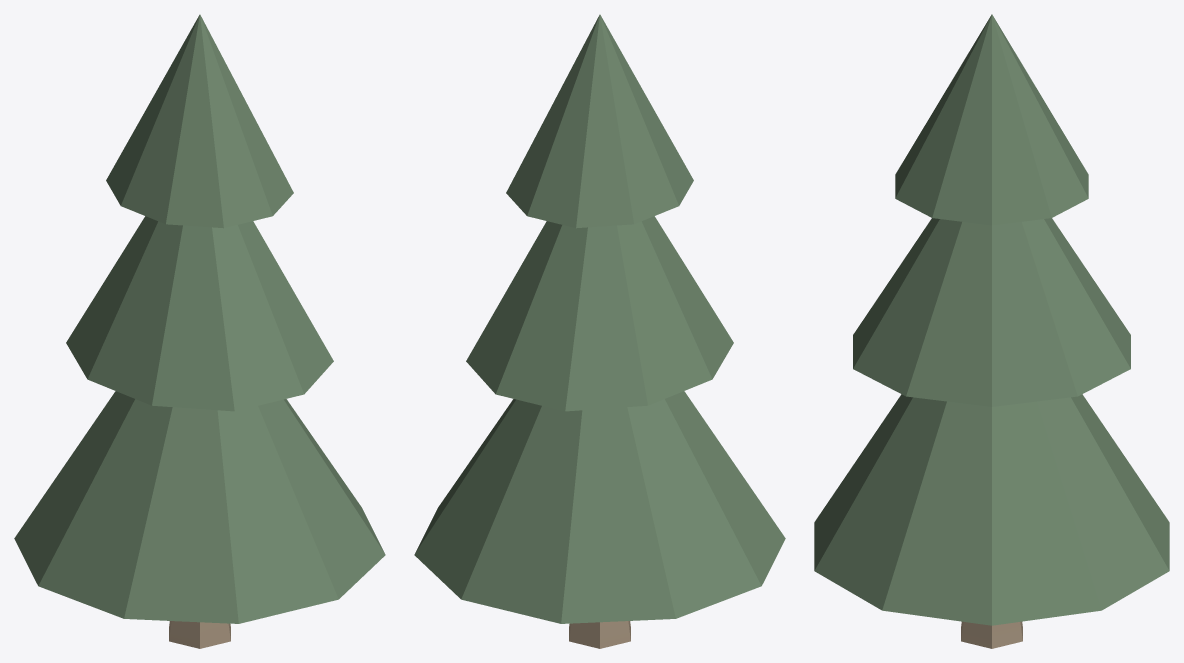
File: pine tree.fbx
3 views of the same model, side by side, from view 1: azimuth 30°, elevation 25°; view 2: azimuth 150°, elevation 25°; view 3: azimuth 270°, elevation 25° (orthographic).
Visible parts, largest first — view 1: pCylinder5; view 2: pCylinder5; view 3: pCylinder5.
Part boxes in pixels (x1,y1,x2,y2): pCylinder5: (14, 14, 385, 648); pCylinder5: (414, 14, 785, 648); pCylinder5: (814, 14, 1169, 648).
Bounding box in the file's own units: 2 × 3.66 × 1.9.
